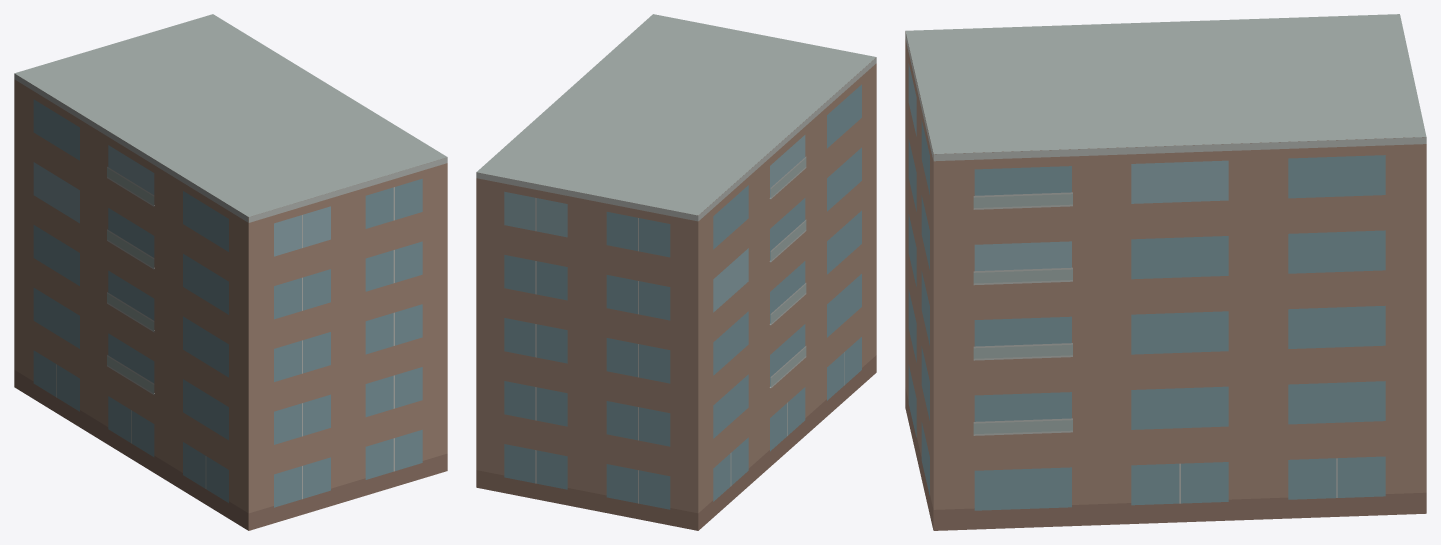
The model's file is survey-upis-33017305.glb.
The picture shows the model from 3 angles, left to right: view 1: azimuth 30°, elevation 25°; view 2: azimuth 150°, elevation 25°; view 3: azimuth 270°, elevation 25°; orthographic projection. The views are drawn at different scales.
Visible parts, largest first — view 1: survey-upis-33017305.tmp; view 2: survey-upis-33017305.tmp; view 3: survey-upis-33017305.tmp.
Part boxes in pixels (x1,y1,x2,y2): survey-upis-33017305.tmp: (14, 14, 447, 530); survey-upis-33017305.tmp: (476, 14, 876, 530); survey-upis-33017305.tmp: (905, 14, 1426, 530).
Bounding box in the file's own units: 10.38 × 13 × 16.31.
